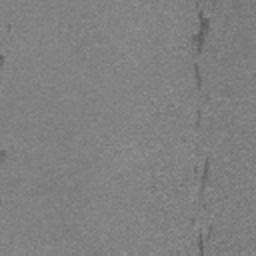Red iron sheet: (192, 10, 211, 54), (198, 224, 211, 256), (198, 159, 210, 192), (191, 64, 202, 91)
